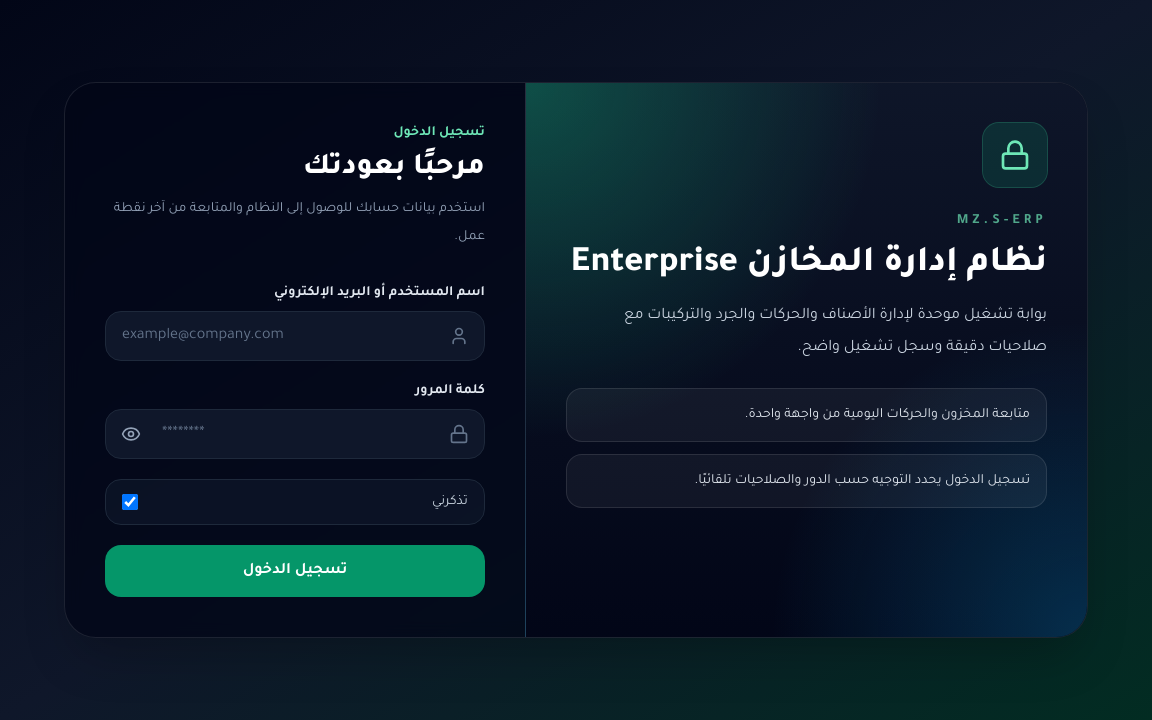
Test case: LoginV2 › يبدّل إظهار وإخفاء كلمة المرور
The width and height of the screenshot is (1152, 720).
Click the button named "إظهار كلمة المرور" at {"x": 131, "y": 434}, box [121,424,141,444]
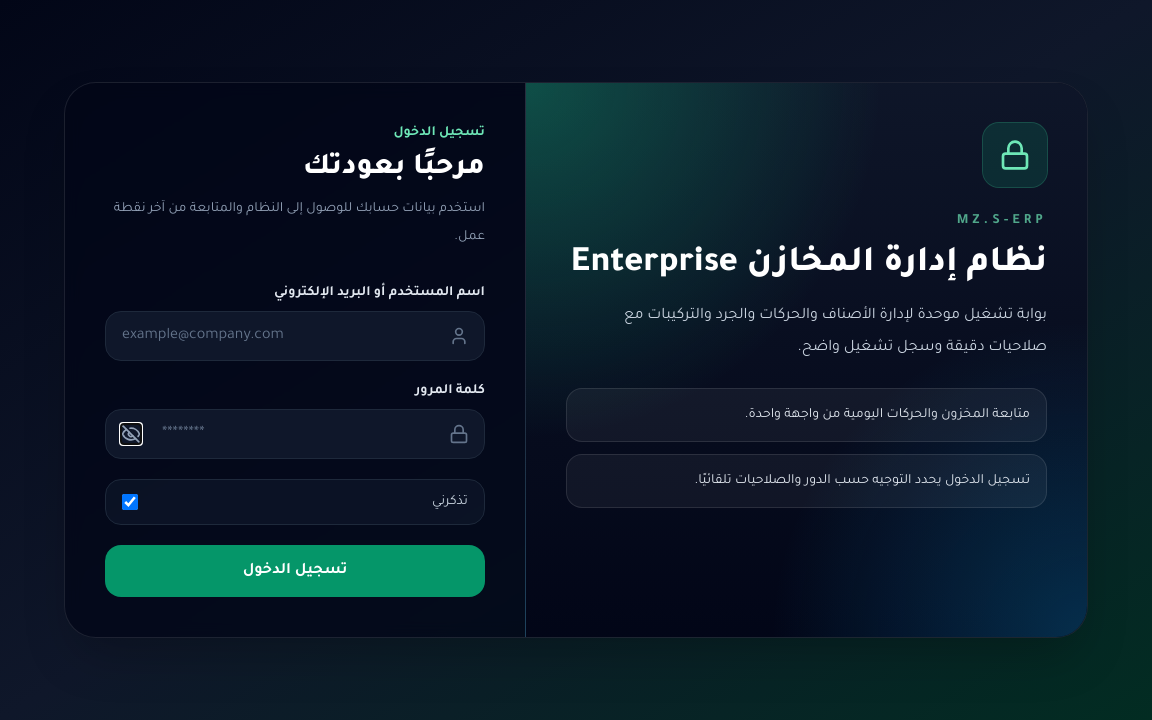
Check: the button named "إخفاء كلمة المرور" is shown, box [121,424,141,444]
